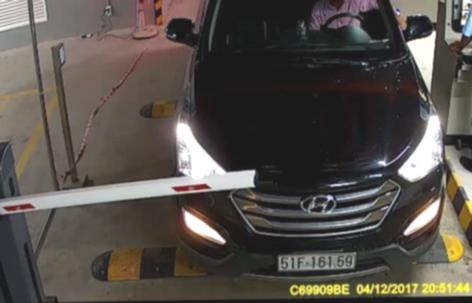License_Plate: (274, 245, 359, 274)
